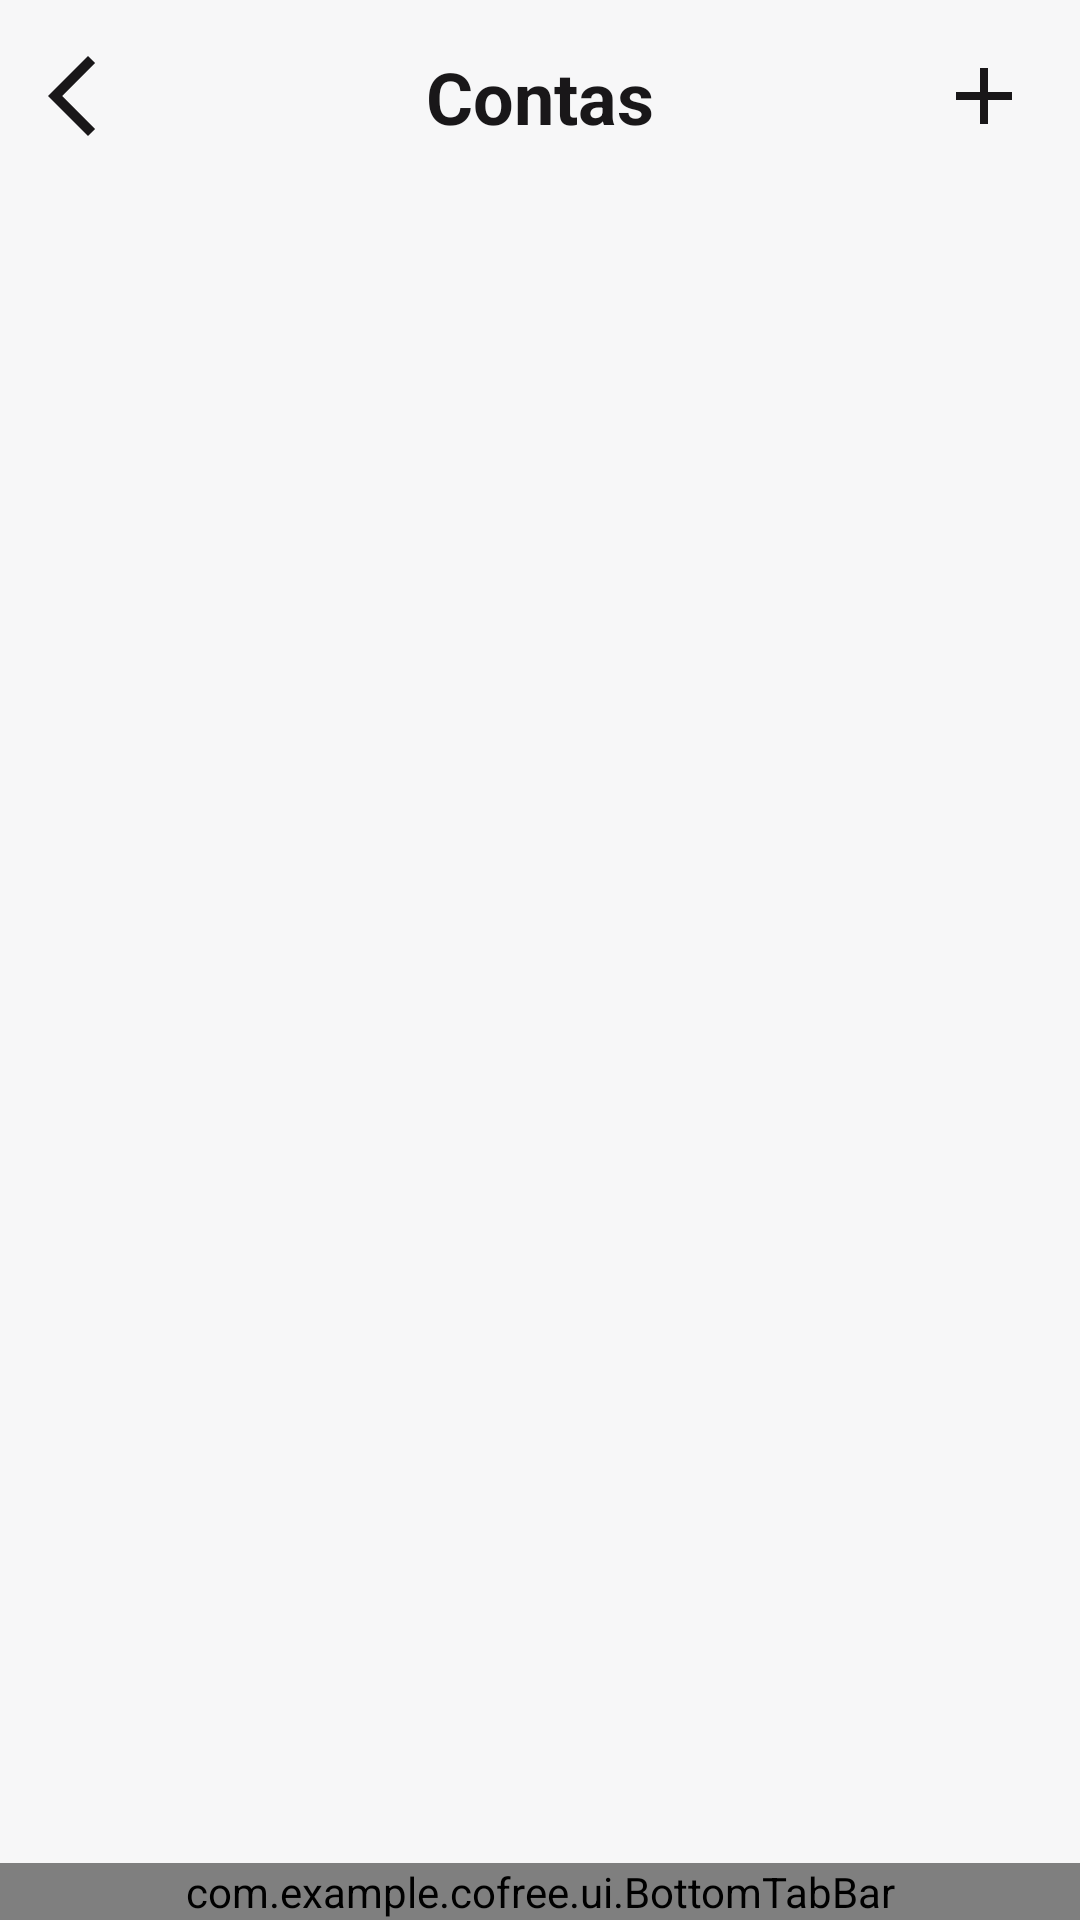

Icons on this 1080px x 1920px Android screen, each with its box as BBox(x1, y1, x2, y2):
add: BBox(956, 68, 1012, 124)
chevron left: BBox(48, 56, 95, 136)
